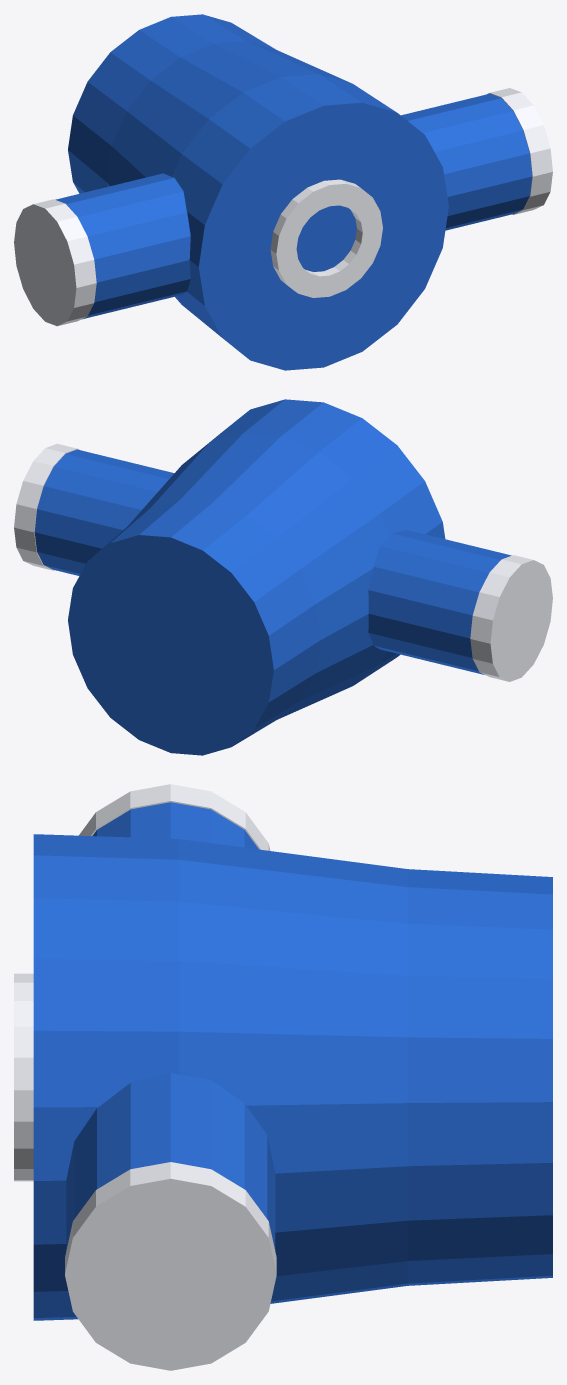
The model's file is Away_Jersey_3D.glb.
3 renders of one model, top to bottom at view 1: azimuth 30°, elevation 25°; view 2: azimuth 150°, elevation 25°; view 3: azimuth 270°, elevation 25°, orthographic. The views are drawn at different scales.
Parts seen in each view (by area): view 1: AwayJersey_0, AwayJersey_1, AwayJersey_3, AwayJersey_2, AwayJersey_5, AwayJersey_4; view 2: AwayJersey_0, AwayJersey_1, AwayJersey_3, AwayJersey_2, AwayJersey_4; view 3: AwayJersey_0, AwayJersey_4, AwayJersey_3, AwayJersey_1, AwayJersey_5, AwayJersey_2.
Boxes of the visible parts, box(x1,y1,x2,y2) form: AwayJersey_0: box(68, 14, 448, 370); AwayJersey_1: box(55, 173, 190, 319); AwayJersey_3: box(401, 93, 532, 230); AwayJersey_2: box(14, 199, 96, 326); AwayJersey_5: box(270, 179, 382, 297); AwayJersey_4: box(487, 88, 552, 214); AwayJersey_0: box(68, 399, 445, 755); AwayJersey_1: box(368, 530, 511, 674); AwayJersey_3: box(34, 449, 174, 575); AwayJersey_2: box(470, 555, 552, 681); AwayJersey_4: box(14, 443, 80, 570); AwayJersey_0: box(33, 834, 552, 1320); AwayJersey_4: box(65, 1162, 276, 1370); AwayJersey_3: box(66, 1073, 275, 1249); AwayJersey_1: box(92, 802, 258, 849); AwayJersey_5: box(14, 973, 33, 1181); AwayJersey_2: box(79, 784, 270, 850).
Size of the model in its own units: 1.29 by 0.68 by 0.7475.
